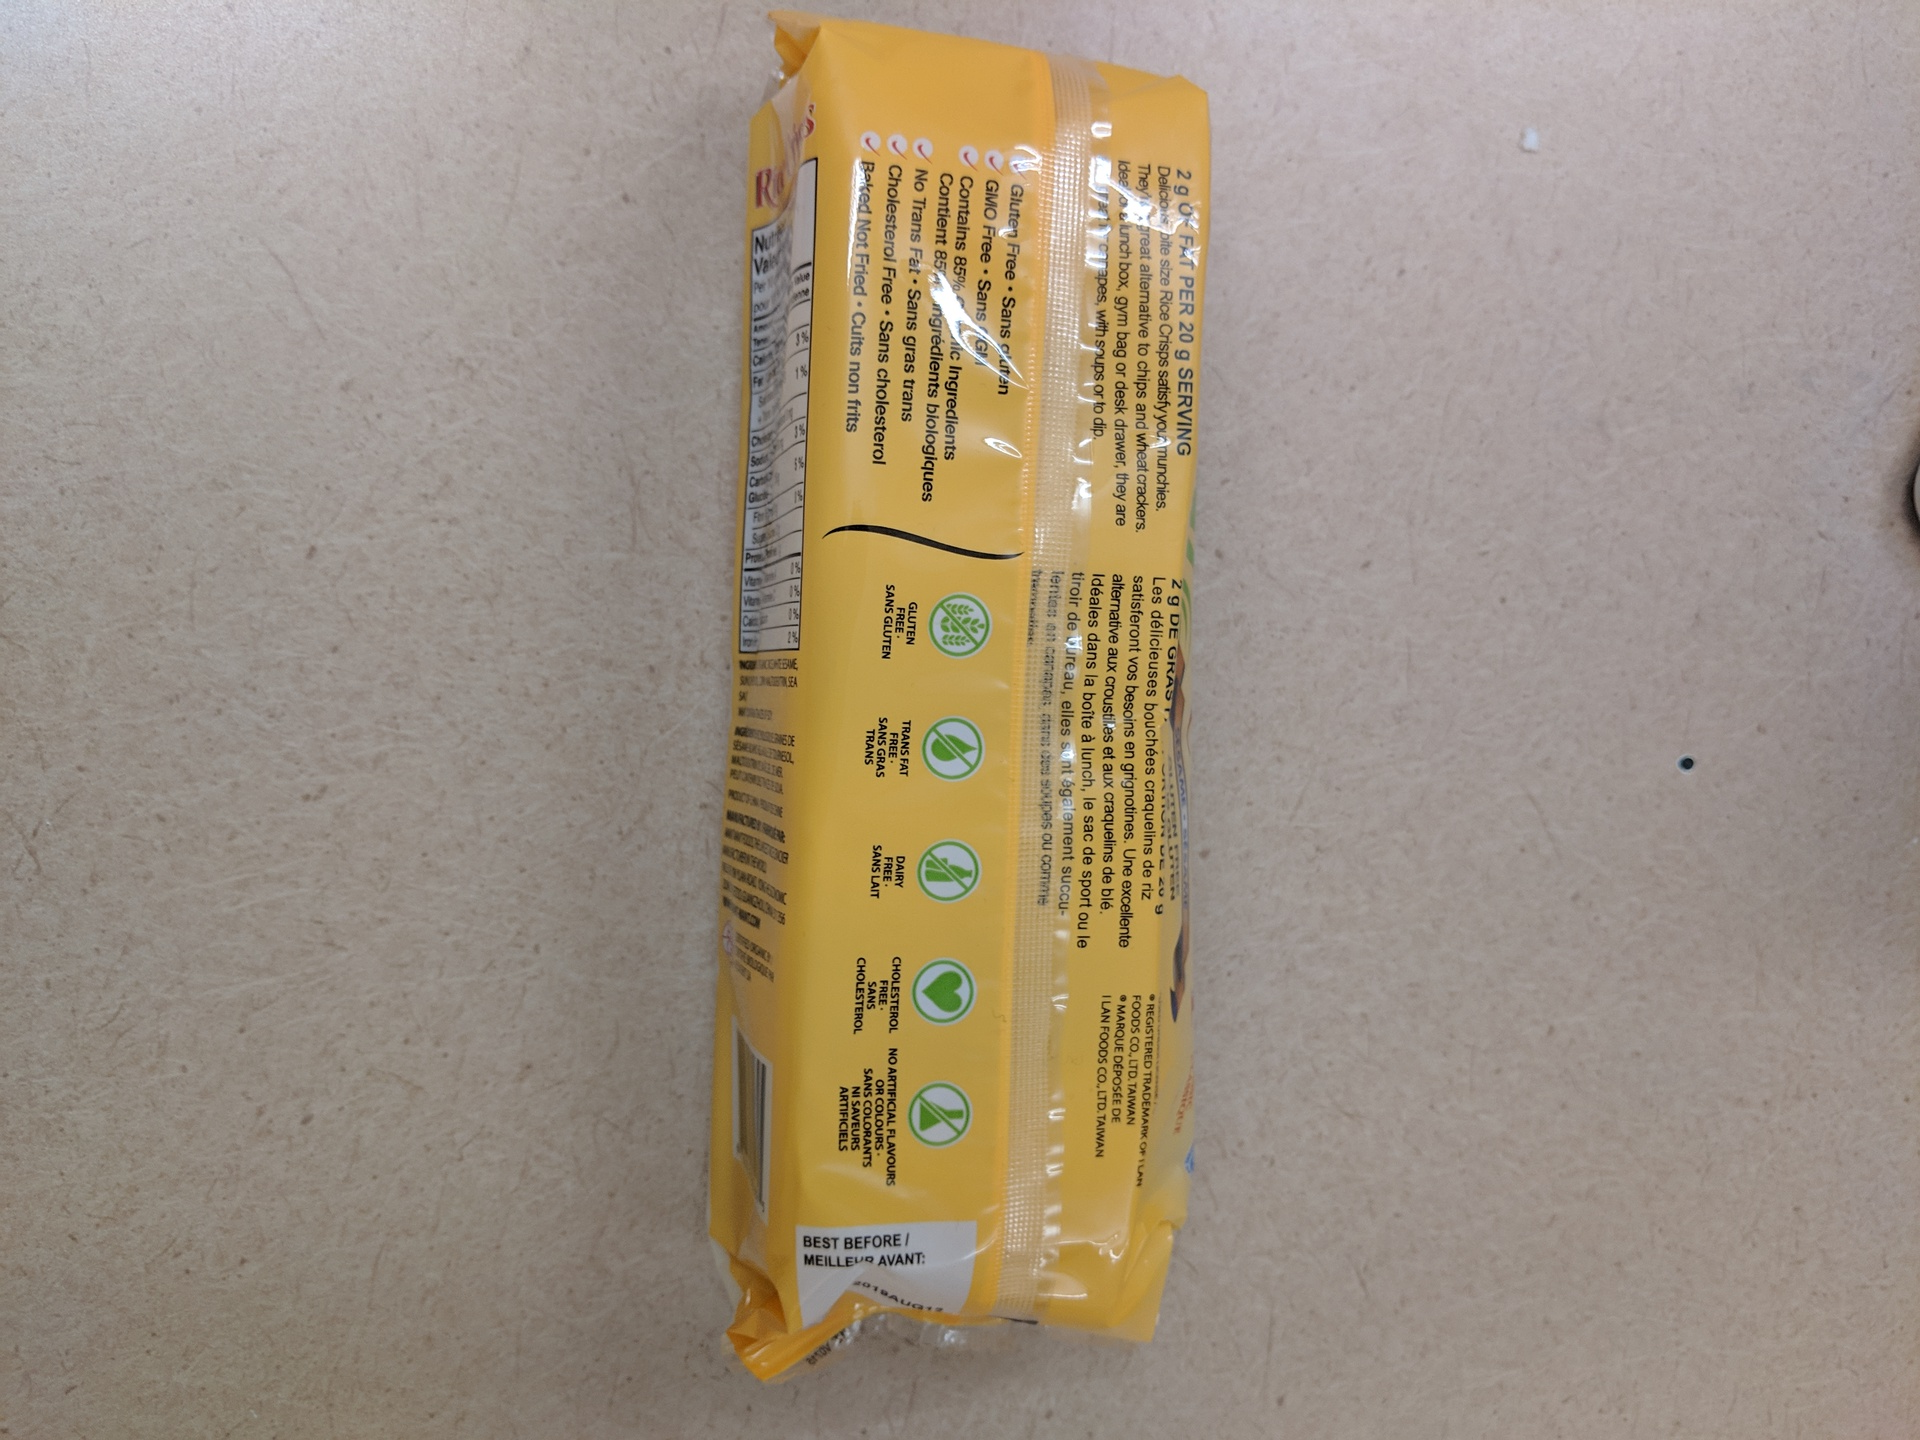hot_kid_rice_crisps_sesame: (704, 50, 1220, 1435)
